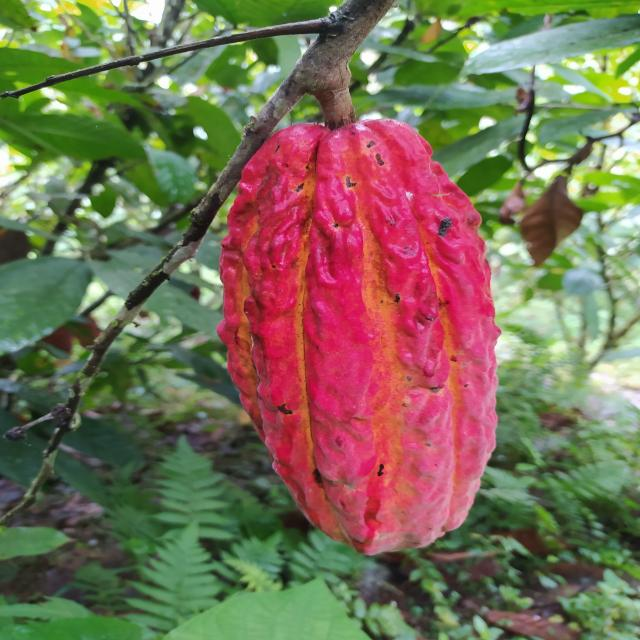Sana: (215, 117, 499, 557)
